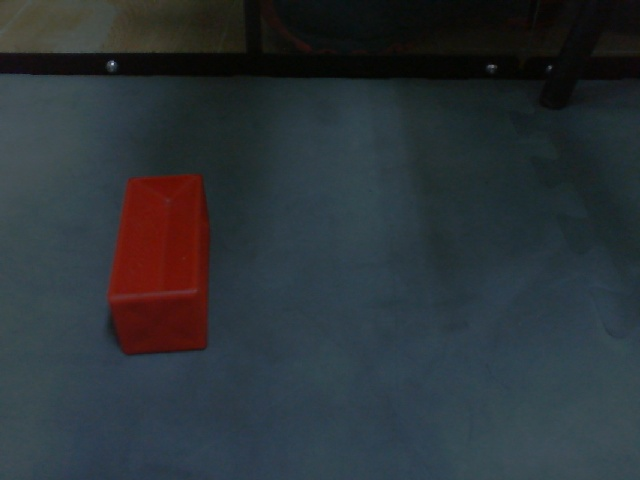RedSample: (104, 171, 214, 358)
